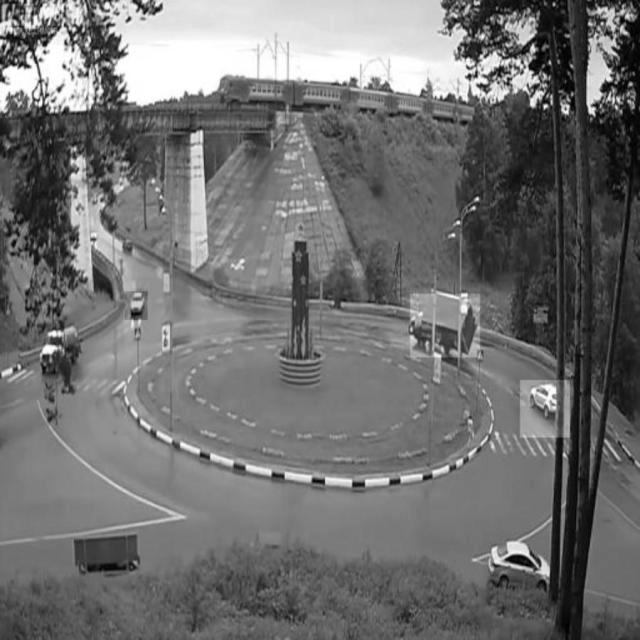vehicle: (483, 533, 553, 607), (410, 294, 480, 358), (519, 380, 570, 438), (45, 326, 80, 368), (126, 292, 148, 320)
